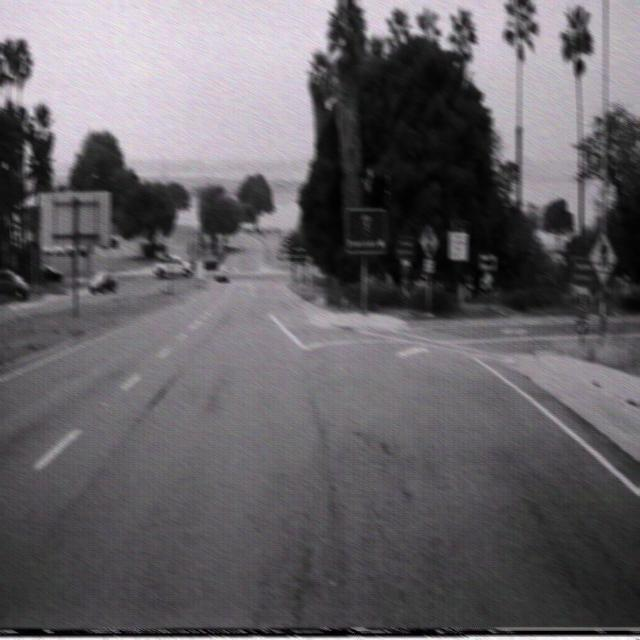pedestrianCrossing: (589, 231, 617, 283)
